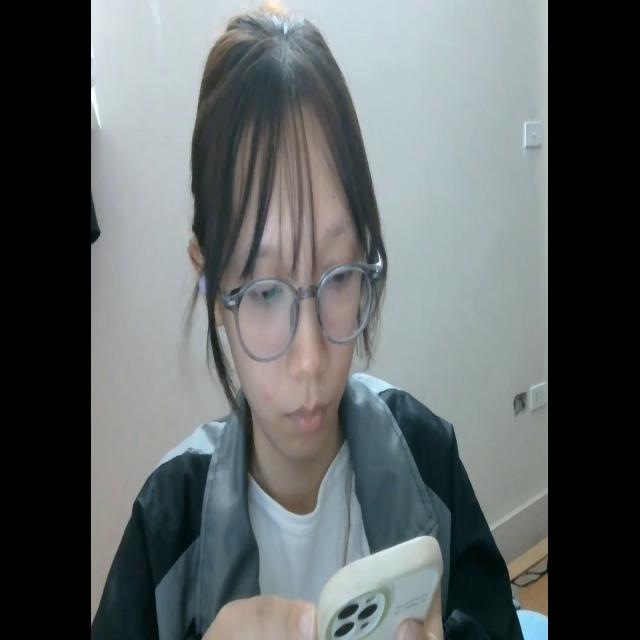phone: (315, 526, 443, 640)
student: (98, 9, 520, 640)
